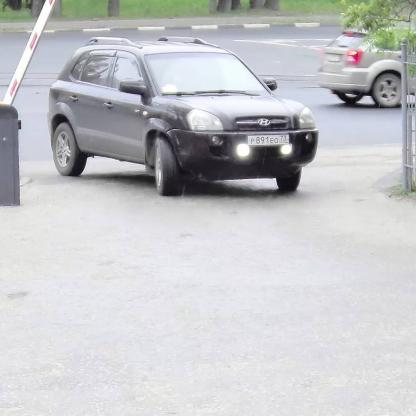plate: (248, 134, 289, 146)
